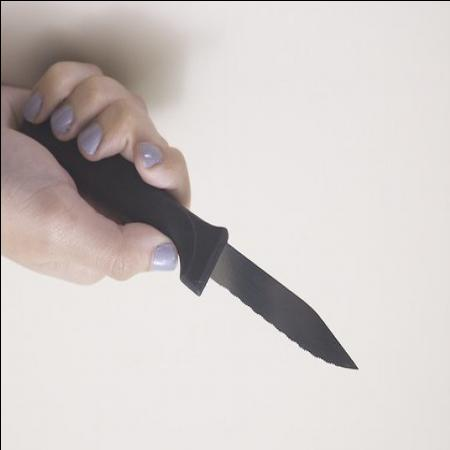long weapon: (70, 114, 362, 384)
